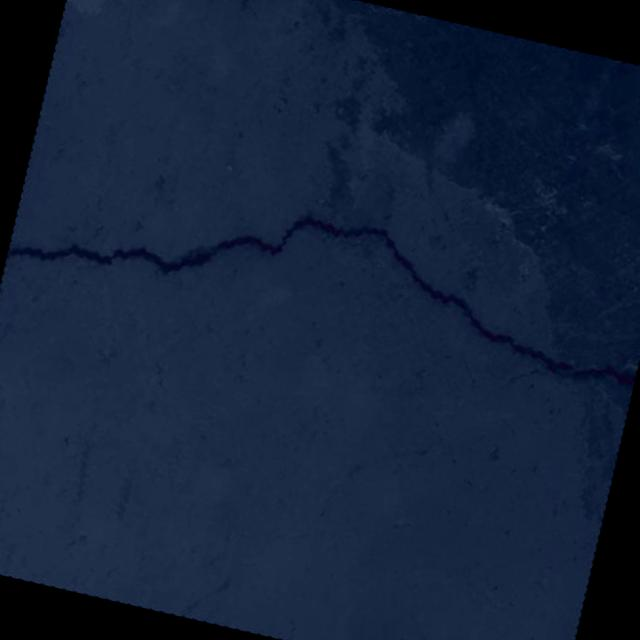crack: (0, 106, 640, 423), (334, 414, 444, 513)
